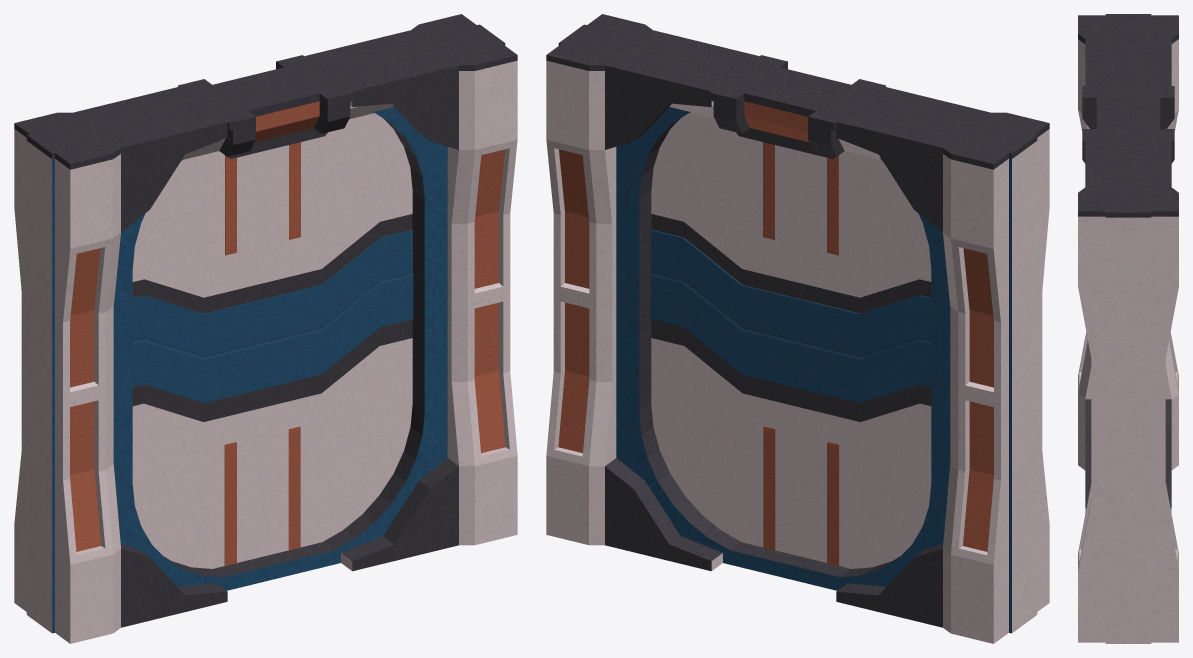
Rendered from door_2.gltf.
The picture shows the model from 3 angles, left to right: view 1: azimuth 30°, elevation 25°; view 2: azimuth 150°, elevation 25°; view 3: azimuth 270°, elevation 25°; orthographic projection. The views are drawn at different scales.
Visible parts, largest first — view 1: door_2, door_2_left, door_2_right; view 2: door_2, door_2_left, door_2_right; view 3: door_2.
Part boxes in pixels (left/top/right/bottom): door_2: left=14, top=14, right=517, bottom=643; door_2_left: left=132, top=273, right=413, bottom=568; door_2_right: left=132, top=113, right=412, bottom=356; door_2: left=546, top=14, right=1049, bottom=643; door_2_left: left=650, top=273, right=931, bottom=568; door_2_right: left=651, top=113, right=931, bottom=356; door_2: left=1078, top=14, right=1178, bottom=643.
Bounding box in the file's own units: 4 × 4.05 × 0.8564.
1 material, 1 textured.
